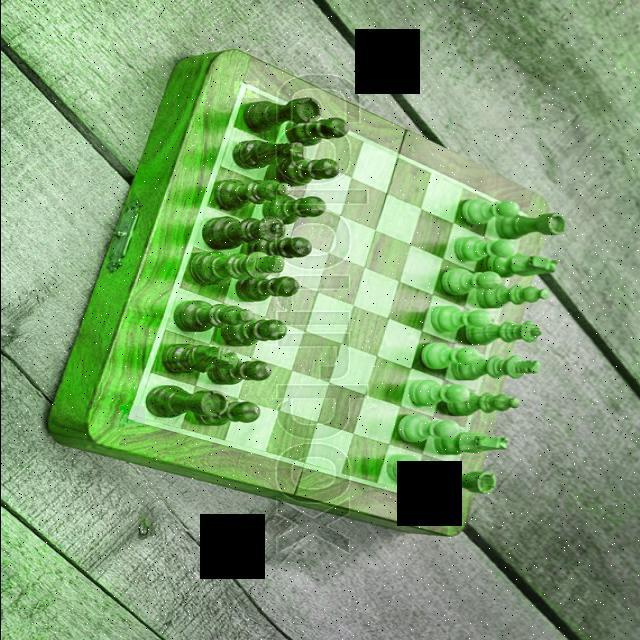chess-table-corners: (119, 406, 144, 427), (233, 81, 258, 98), (430, 494, 454, 511)
